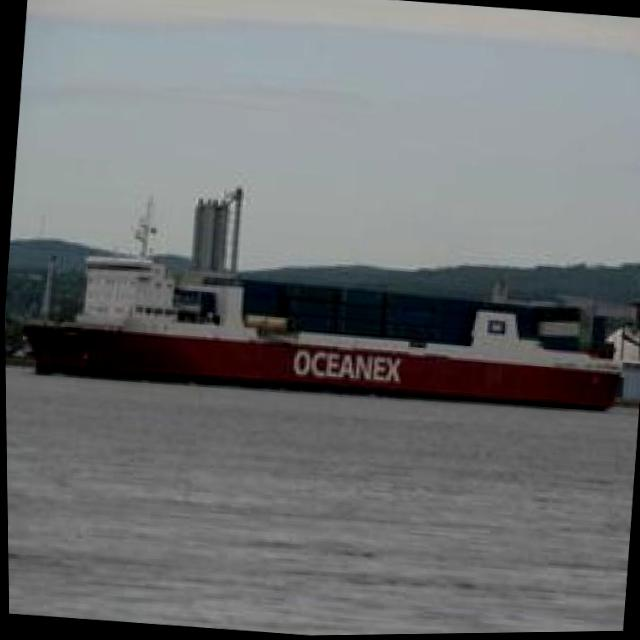ship2: (12, 192, 623, 415)
